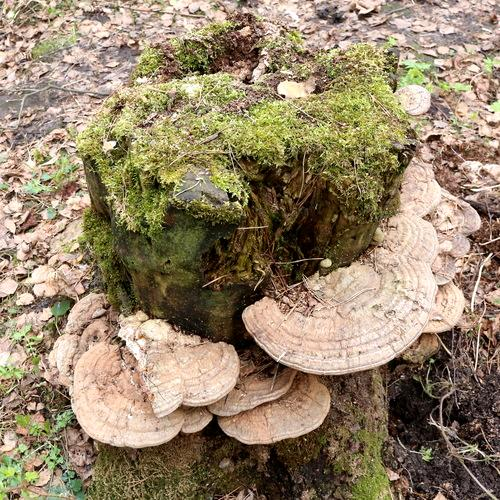Ganoderma - Fruit Body: (238, 211, 443, 378), (125, 307, 233, 408), (245, 383, 333, 448), (392, 79, 433, 117)
